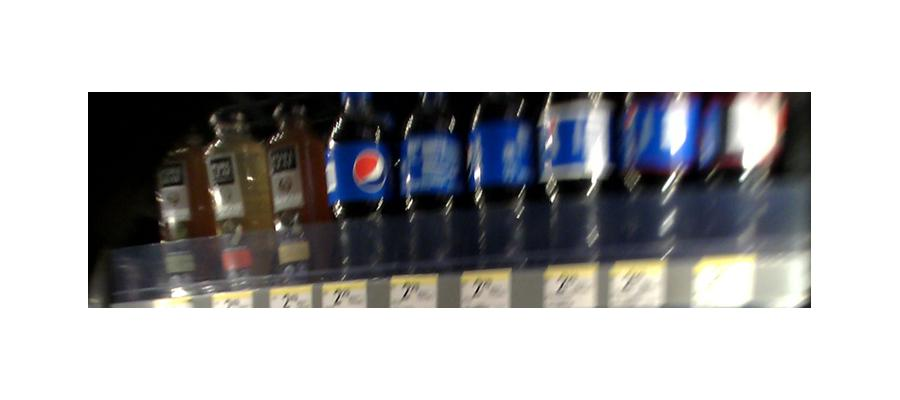bottle: (612, 92, 701, 268), (324, 92, 392, 277), (203, 103, 269, 293), (468, 104, 542, 257), (156, 121, 216, 307), (397, 100, 465, 262), (269, 90, 322, 280), (544, 99, 608, 256)
